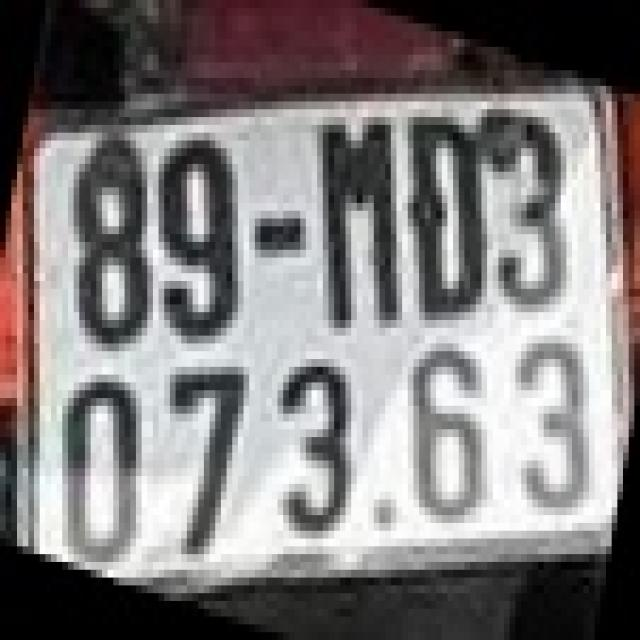0: (62, 375, 142, 562)
3: (487, 109, 572, 312), (277, 359, 357, 531), (515, 336, 595, 507)
6: (408, 343, 487, 523)
7: (164, 359, 249, 554)
8: (68, 133, 153, 351)
9: (153, 133, 243, 343)
D: (408, 117, 487, 320)
M: (314, 109, 405, 328)
